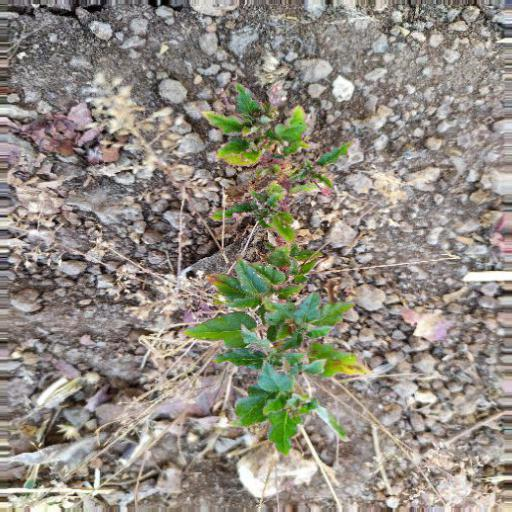weed: (193, 88, 361, 449)
